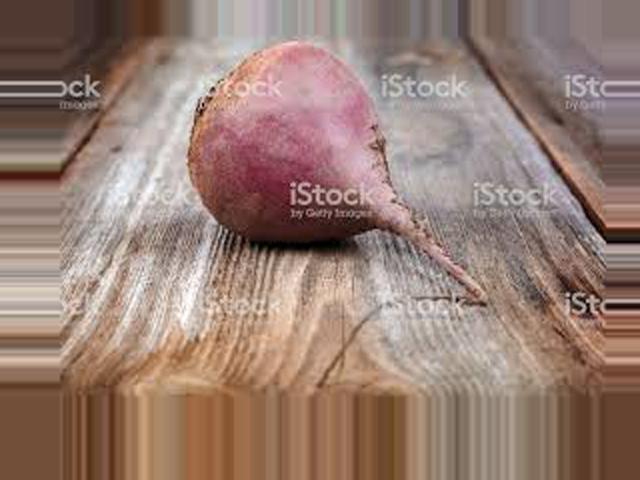beet: (188, 41, 490, 303)
